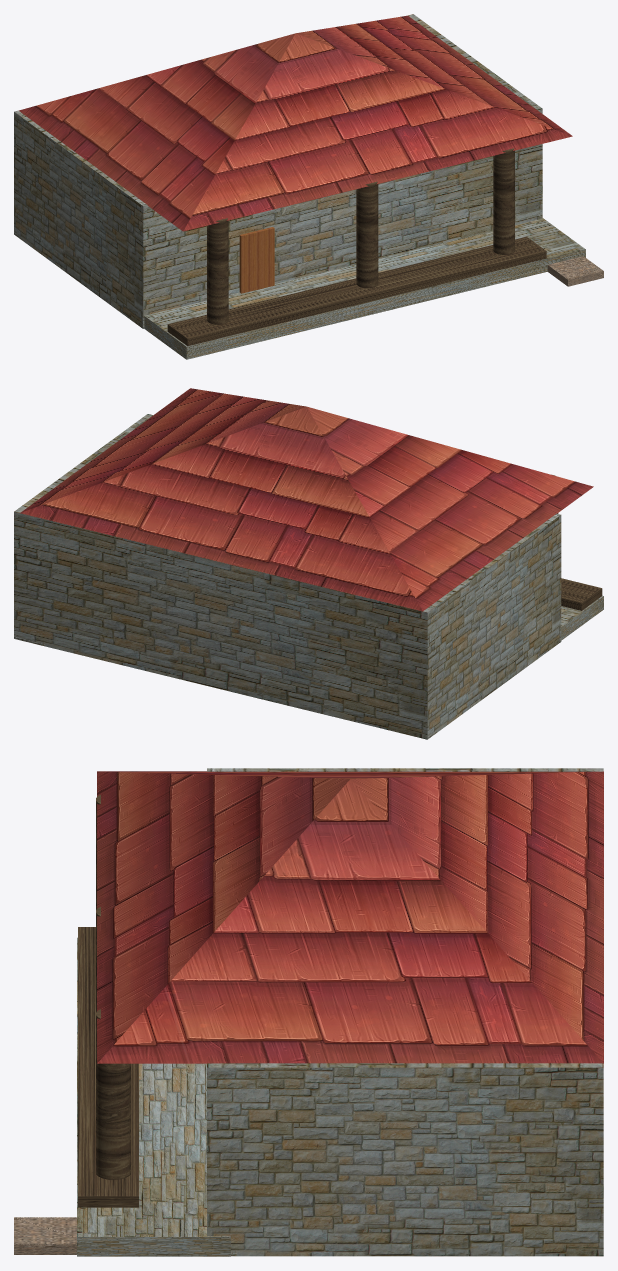
File: Tavern.fbx
The picture shows the model from 3 angles, top to bottom: view 1: azimuth 30°, elevation 25°; view 2: azimuth 150°, elevation 25°; view 3: azimuth 270°, elevation 25°; orthographic projection. The views are drawn at different scales.
Visible parts, largest first — view 1: Pyramid001, Box003, Box004, Box005, Cylinder003, Cylinder001, Cylinder002, Box007, Box006; view 2: Box003, Pyramid001, Box005, Box004; view 3: Pyramid001, Box003, Box004, Box005, Cylinder002, Box006.
Part boxes in pixels (left/top/right/bottom): Pyramid001: left=19, top=15, right=572, bottom=231; Box003: left=14, top=14, right=542, bottom=328; Box004: left=144, top=218, right=585, bottom=359; Box005: left=167, top=236, right=546, bottom=346; Cylinder003: left=356, top=181, right=378, bottom=288; Cylinder001: left=207, top=218, right=228, bottom=324; Cylinder002: left=493, top=148, right=514, bottom=254; Box007: left=239, top=227, right=274, bottom=293; Box006: left=547, top=256, right=603, bottom=286; Box003: left=14, top=414, right=561, bottom=739; Pyramid001: left=20, top=388, right=593, bottom=611; Box005: left=561, top=578, right=602, bottom=610; Box004: left=561, top=595, right=603, bottom=640; Pyramid001: left=97, top=771, right=603, bottom=1063; Box003: left=207, top=768, right=603, bottom=1256; Box004: left=77, top=937, right=230, bottom=1256; Box005: left=78, top=927, right=138, bottom=1207; Cylinder002: left=96, top=1009, right=130, bottom=1179; Box006: left=14, top=1217, right=76, bottom=1254.
Size of the model in its own units: 94.97 by 48.28 by 78.94.
Materials: 5 (5 with a texture image).
